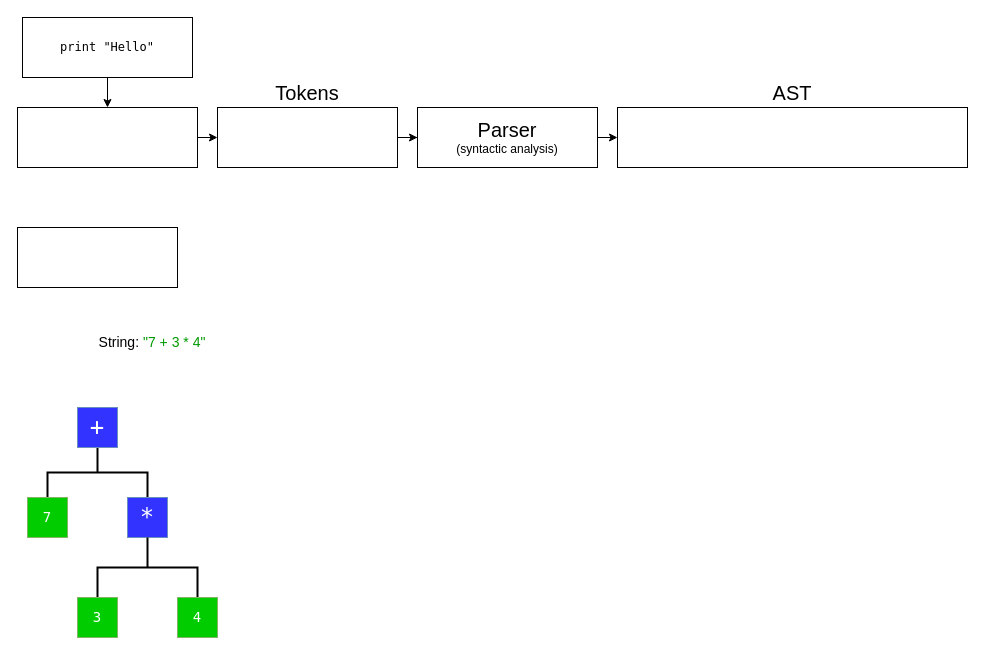
The diagram is 985 pixels wide and 655 high, and some of its shapes have lost their labels. The shapes that lost their labels are listed below. From the top down, each one's box as (x1, y1, x2, y2) in pixels, then its label:
(16, 106, 198, 168): Tokenizer (lexical analysis)
(216, 106, 398, 168): [ID: "print"] [STRING: "hello"]
(616, 106, 968, 168): <Call name="print" args=["hello"] />
(16, 226, 178, 288): Abstract Syntax Tree
